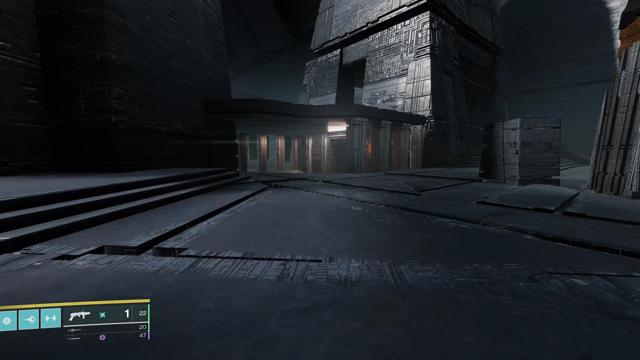kill: (366, 136, 372, 162)
